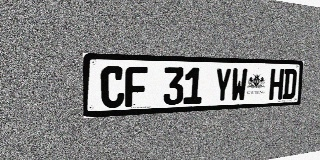1: (183, 67, 203, 104)
3: (163, 67, 184, 105)
C: (100, 66, 124, 108)
D: (282, 69, 297, 99)
F: (125, 66, 148, 107)
H: (269, 69, 284, 100)
W: (230, 68, 248, 102)
Y: (214, 68, 232, 103)
